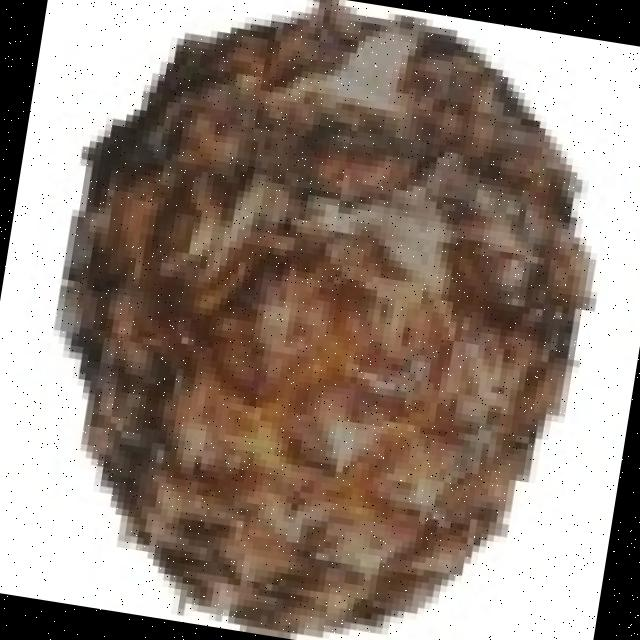pineapple: (72, 24, 599, 640)
